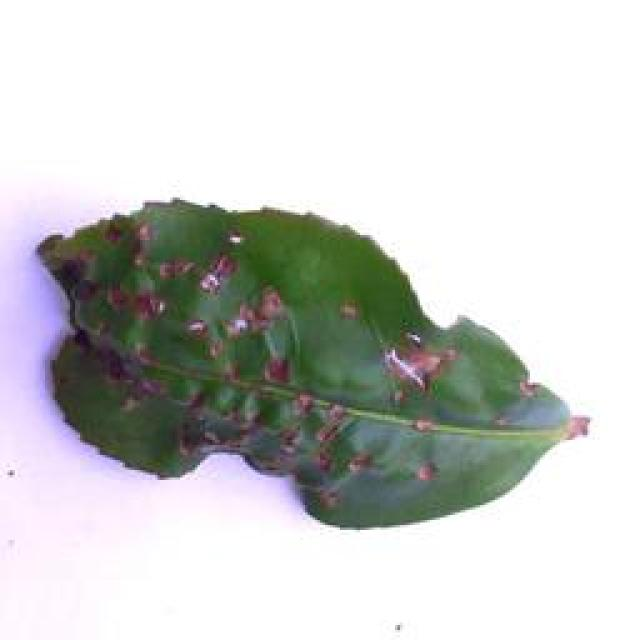Helopeltis: (33, 183, 600, 528)
